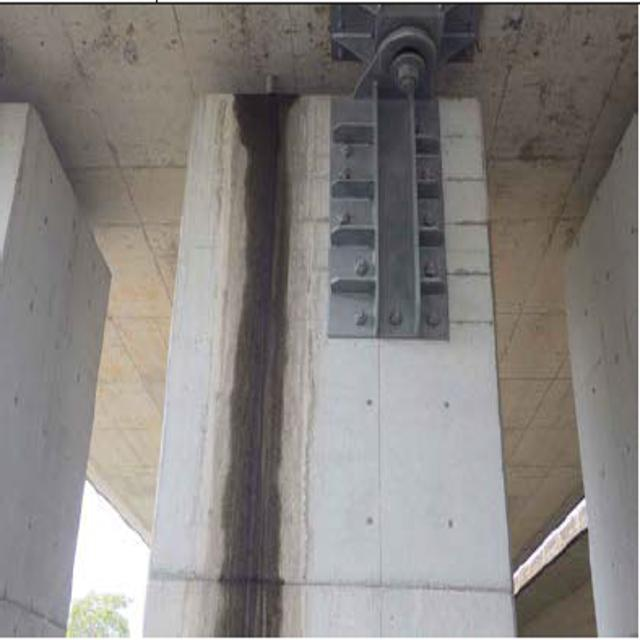leakage: (220, 73, 297, 640)
